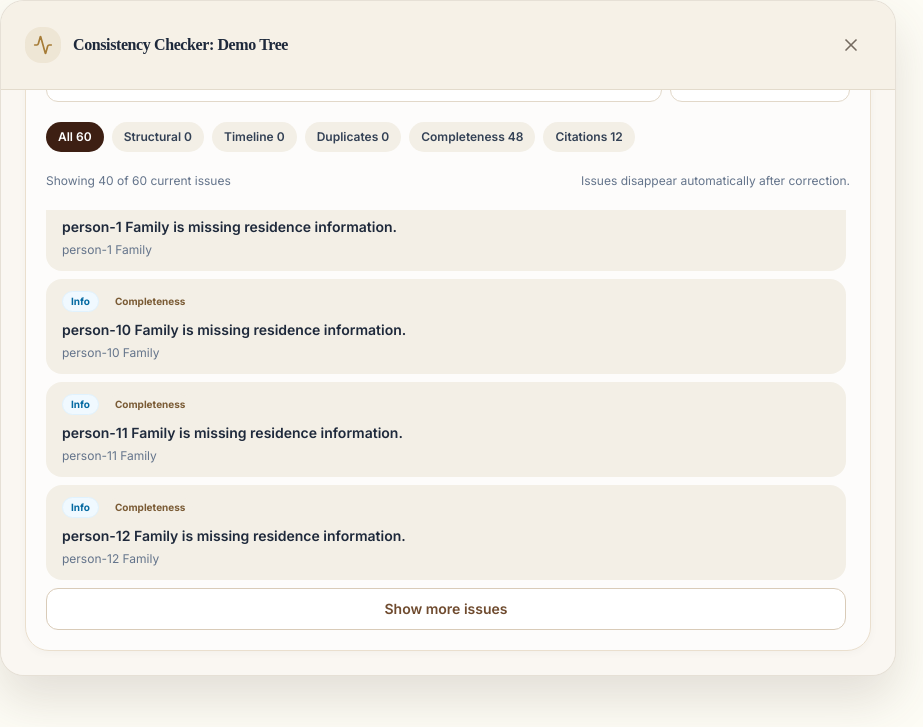
Test: StatisticsDashboard health center consistency view › renders large issue collections in bounded batches
(page scrolled)
Expected: the text "Showing 40 of 60 current issues" is shown, [46, 172, 231, 190]
Click the button "Show more issues": (446, 608) [46, 588, 846, 630]
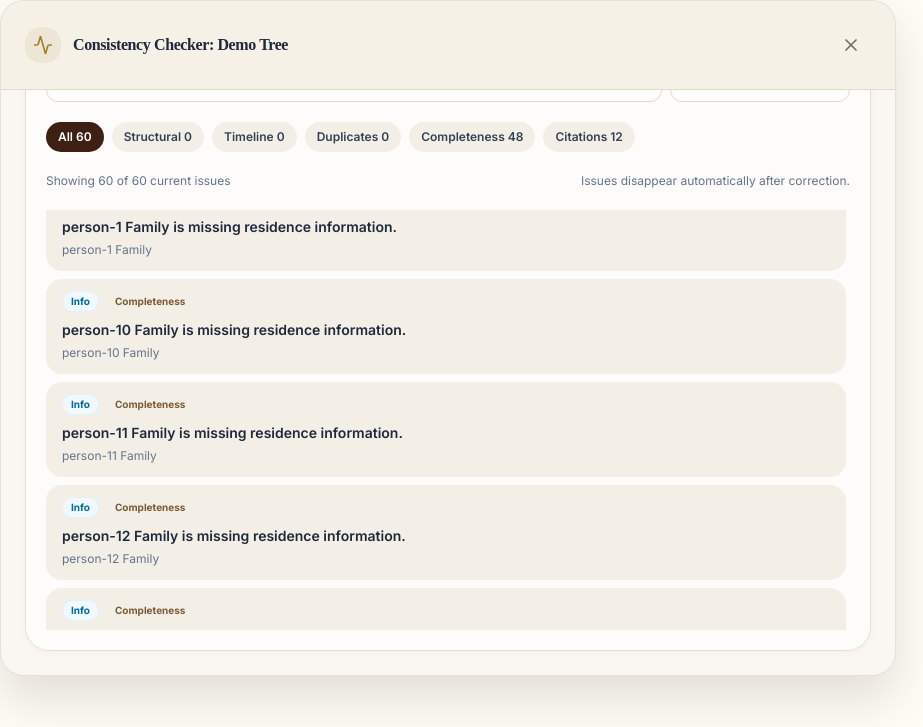
Expected: the text "Showing 60 of 60 current issues" is shown, [46, 172, 230, 190]
Expected: the button "Show more issues" is gone
